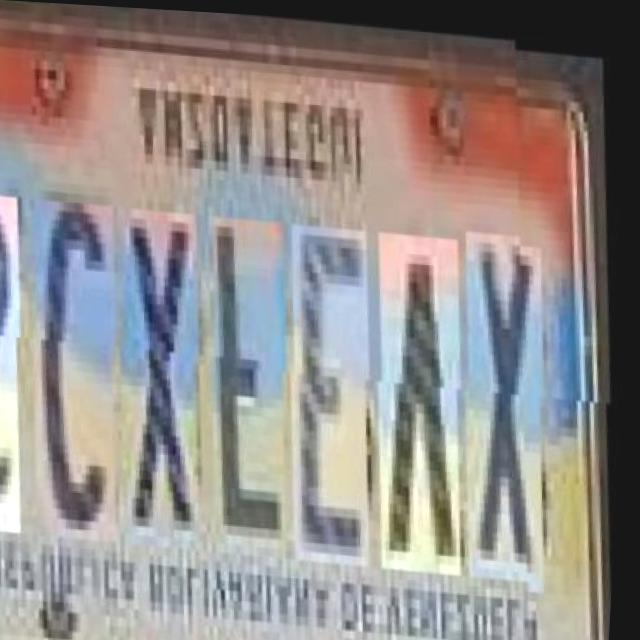c: (31, 198, 143, 540)
e: (288, 217, 396, 559)
f: (209, 212, 313, 553)
s: (0, 195, 47, 534)
v: (375, 224, 487, 566)
x: (462, 221, 571, 571), (117, 204, 226, 546)
